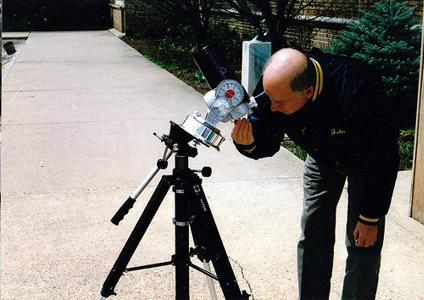person: (231, 47, 401, 300)
